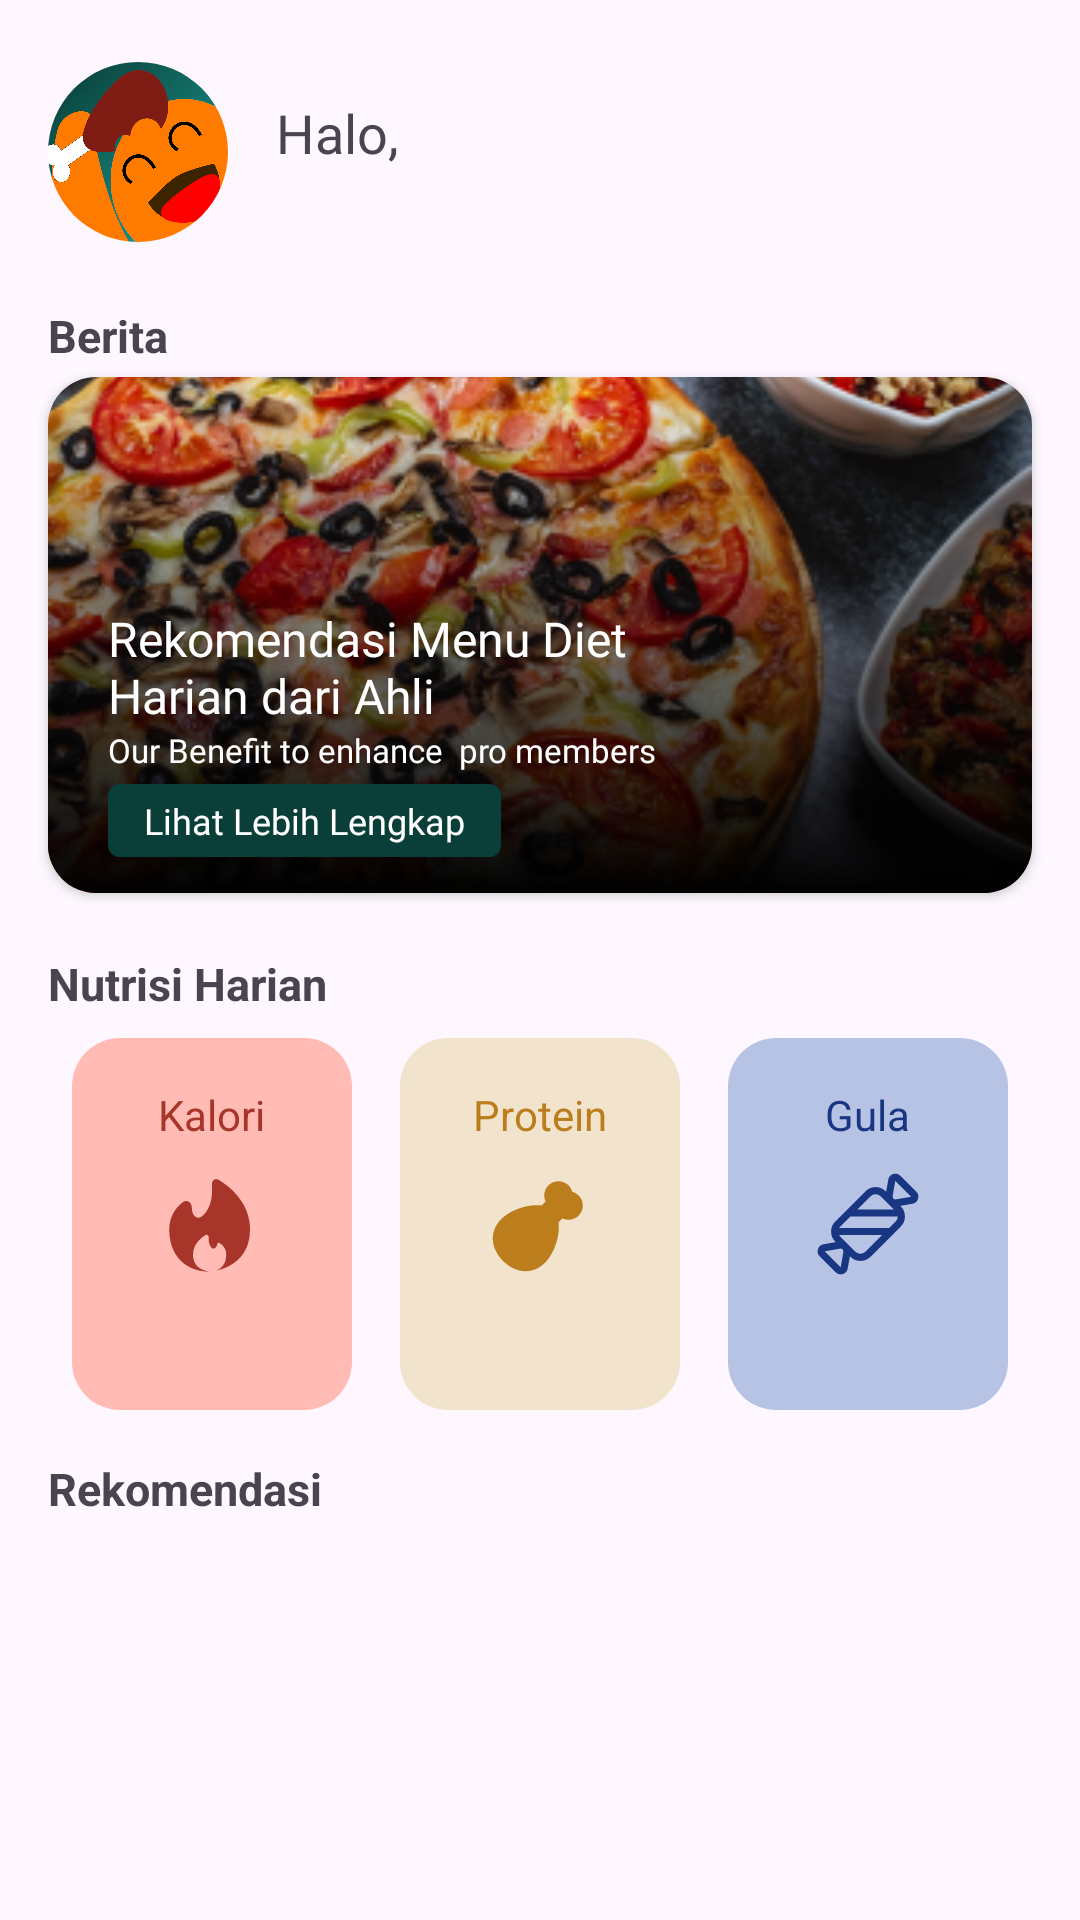

Where icons sit on this 1080px×1920px app screen, as (x1, y1, x2, y2):
ep sugar: (817, 1173, 919, 1275)
mingcute chicken: (492, 1181, 583, 1272)
solar fire: (169, 1179, 250, 1272)
